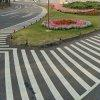crosswalks: (7, 33, 99, 100)
